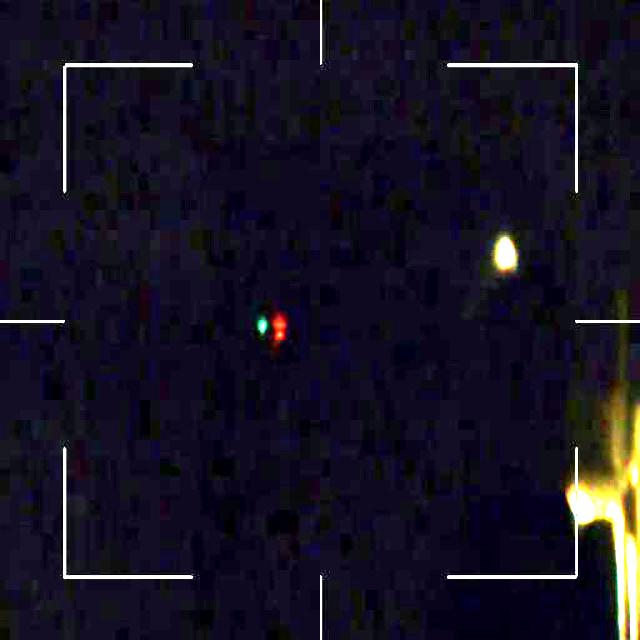bird: (252, 309, 286, 349)
